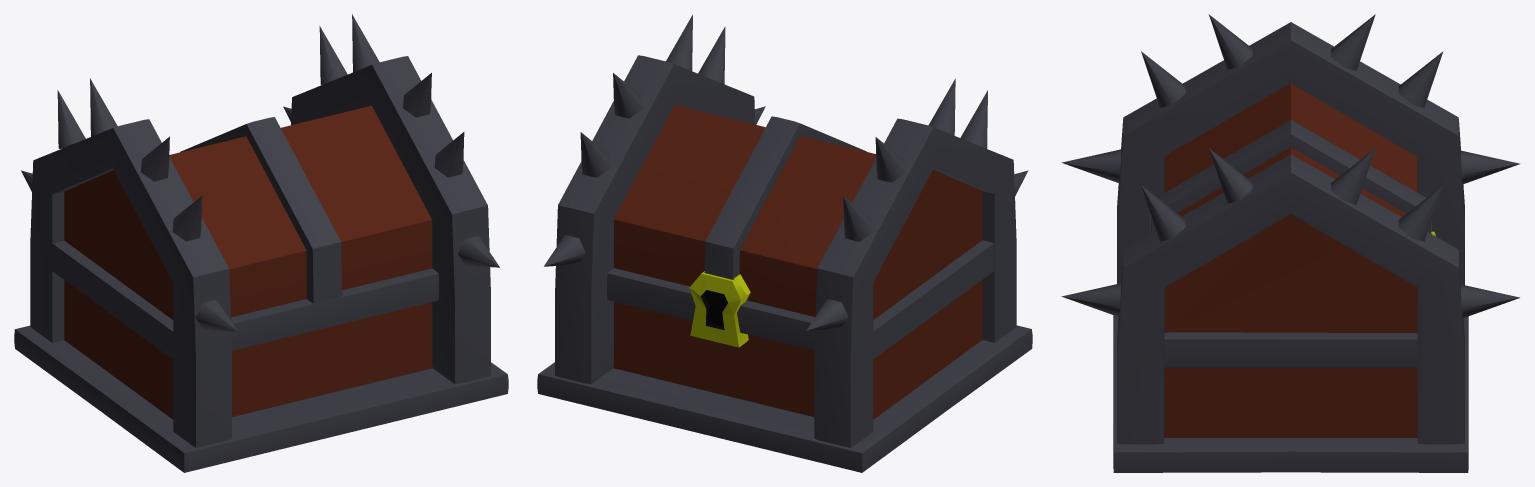
The model's file is Skrzynia.FBX.
3 renders of one model, left to right at view 1: azimuth 30°, elevation 25°; view 2: azimuth 150°, elevation 25°; view 3: azimuth 270°, elevation 25°, orthographic. The views are drawn at different scales.
Visible parts, largest first — view 1: Box001; view 2: Box001; view 3: Box001.
Part boxes in pixels (x1,y1,x2,y2): Box001: (14,14,508,472); Box001: (537,14,1032,472); Box001: (1061,14,1520,472).
Size of the model in its own units: 54.51 by 47.61 by 63.94.
